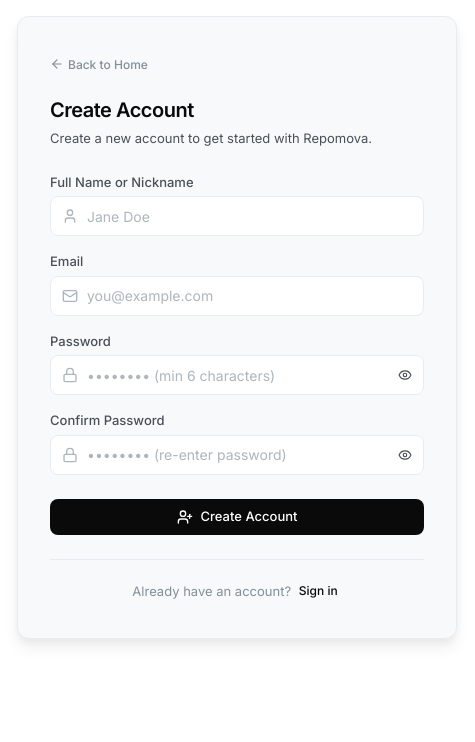
Test: Authentication Flow, Dedicated Pages & Profile Menu › Dedicated Sign-Up Screen (SignUpView) › detects duplicate user on sign-up and displays helpful error
Step 1. Type "existing@example.com" into the field with placeholder "you@example.com" → (237,296), box x1=50 y1=276 x2=424 y2=316
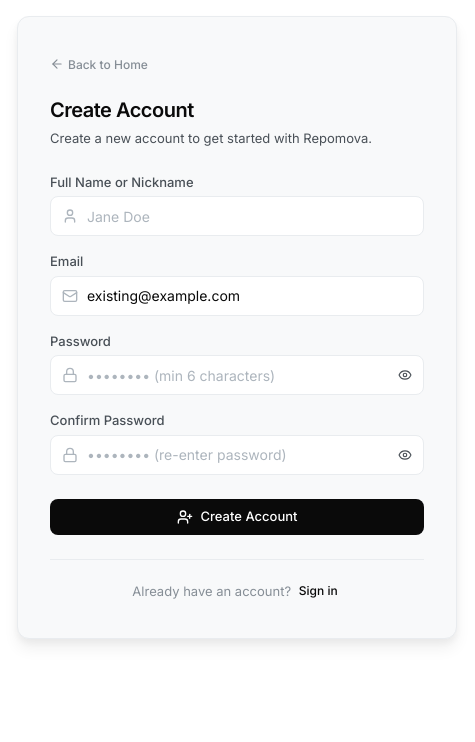
Step 2. Type "securePass123" into the password field with placeholder "•••••••• (min 6 characters)" → (237,375), box x1=50 y1=355 x2=424 y2=395
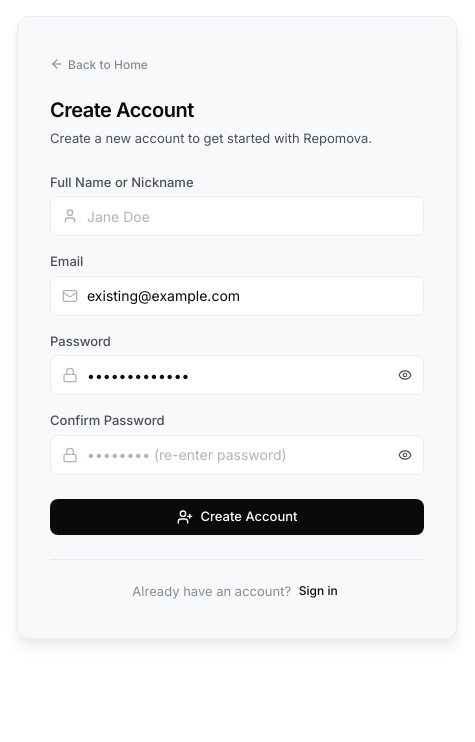
Step 3. Type "securePass123" into the password field with placeholder "•••••••• (re-enter password)" → (237,454), box x1=50 y1=434 x2=424 y2=474
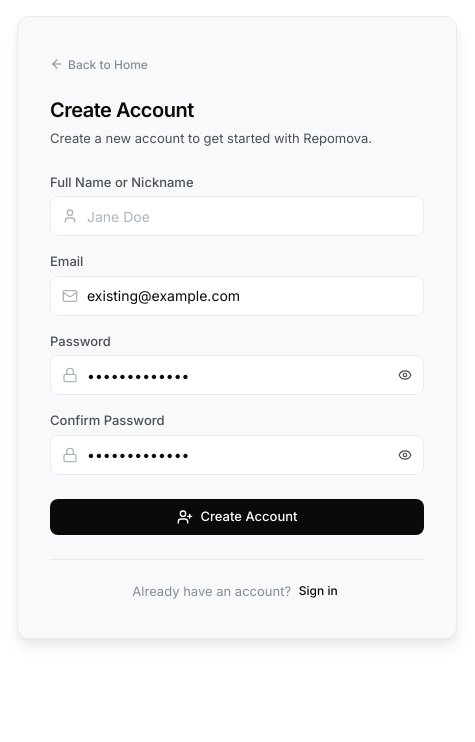
Step 4. Click the button "Create Account" → (237,516), box x1=50 y1=498 x2=424 y2=534
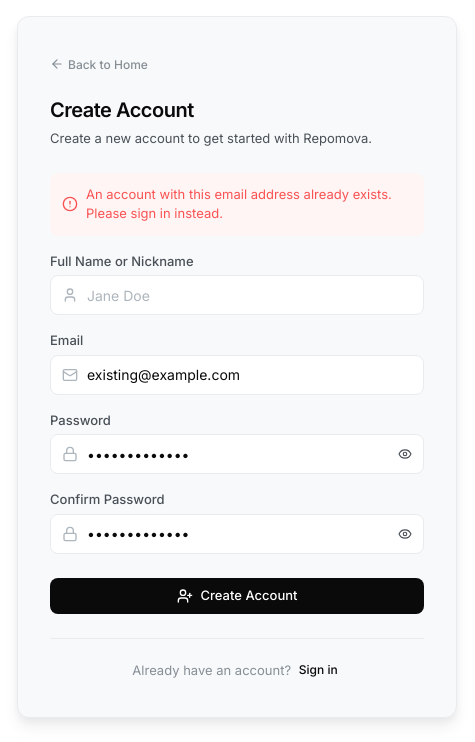
Expected: the text "An account with this email address already exists. Please sign in instead" is shown, x1=86 y1=186 x2=392 y2=221
